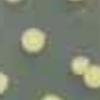yellow: (20, 26, 46, 57), (68, 52, 93, 78), (83, 64, 100, 92), (0, 70, 10, 97), (40, 93, 70, 100), (1, 0, 26, 4), (67, 0, 89, 3)
